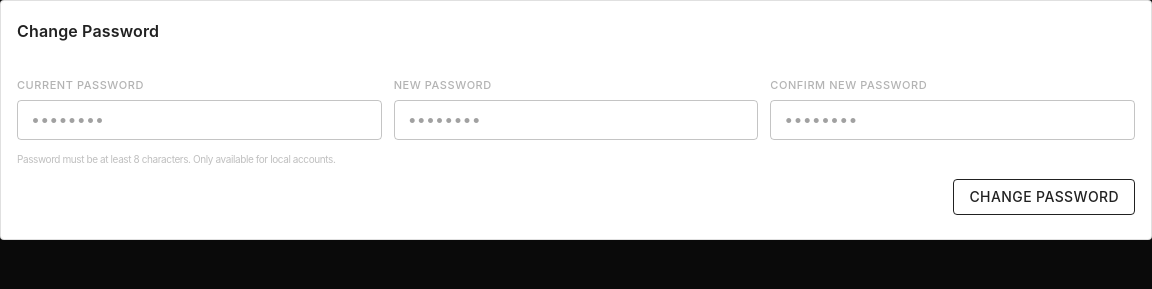
Test: ChangePasswordSection — validation › shows error when fields are empty
Click the button "Change Password" at (1044, 197), box [954,178,1135,215]
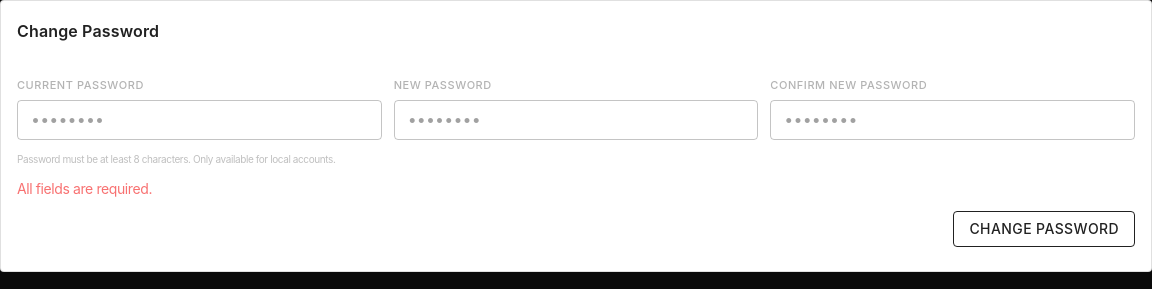
expect the text "All fields are required." is shown: met, box [17,180,152,196]
